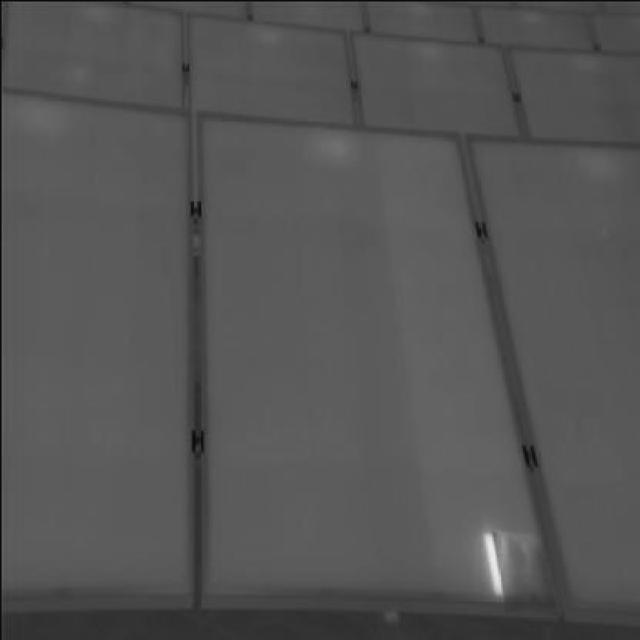hotspot: (480, 525, 540, 600)
